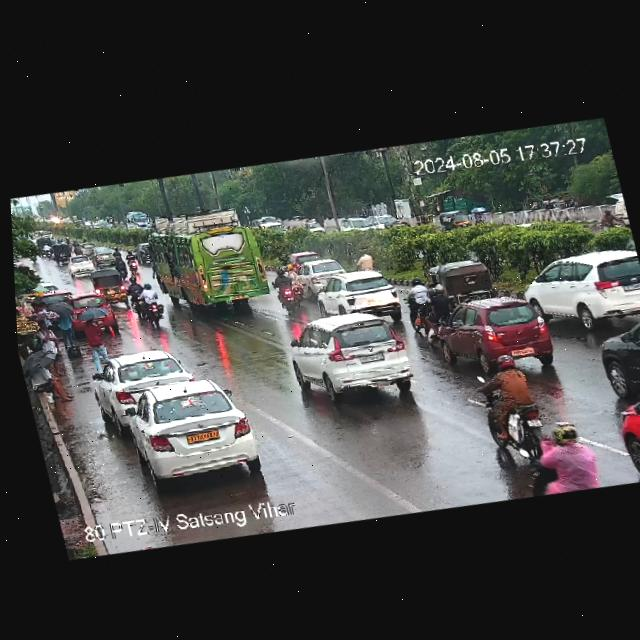bus: (139, 204, 279, 324)
car: (120, 366, 268, 492), (279, 297, 421, 414), (430, 284, 563, 381), (515, 236, 640, 338), (90, 341, 194, 421), (308, 264, 409, 336), (583, 308, 640, 401), (604, 369, 640, 485), (430, 253, 500, 308), (63, 288, 120, 338), (301, 253, 350, 294), (88, 266, 132, 309), (438, 202, 490, 236), (65, 253, 101, 279), (37, 284, 71, 306), (286, 246, 319, 266), (88, 245, 115, 268), (134, 240, 155, 269), (342, 215, 371, 234)
motorcycle: (468, 345, 551, 462), (512, 415, 615, 503), (400, 270, 457, 338), (268, 262, 310, 315), (135, 280, 169, 331), (123, 275, 147, 314), (49, 239, 76, 266), (66, 234, 94, 258), (597, 205, 620, 234), (111, 246, 129, 280), (353, 244, 375, 270), (123, 248, 140, 274)
person: (23, 352, 78, 410), (72, 306, 116, 373), (35, 317, 64, 376), (53, 308, 77, 350), (26, 299, 49, 318)
